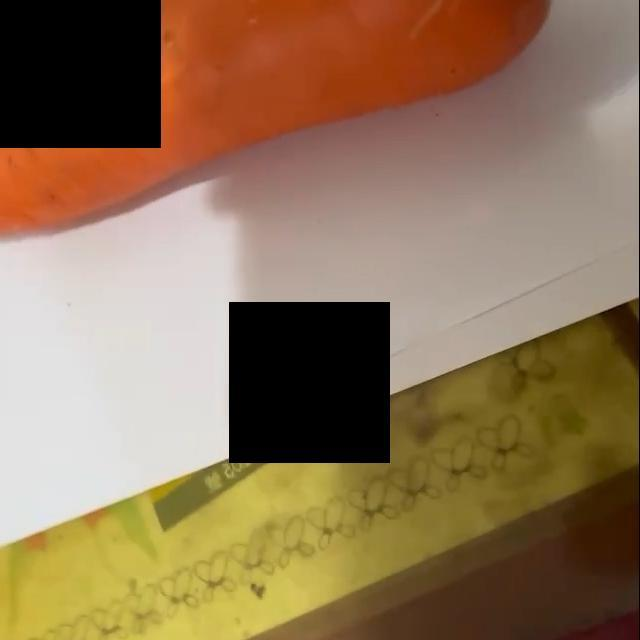carrot: (1, 1, 638, 238)
